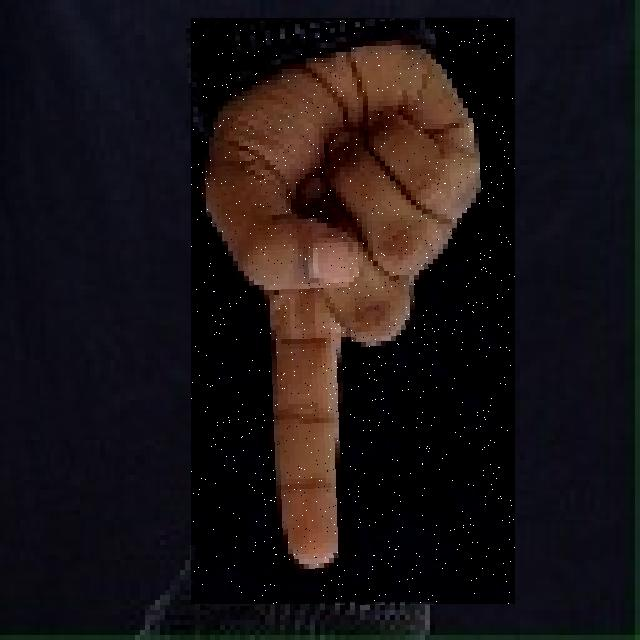IloveYou: (191, 18, 515, 604)
